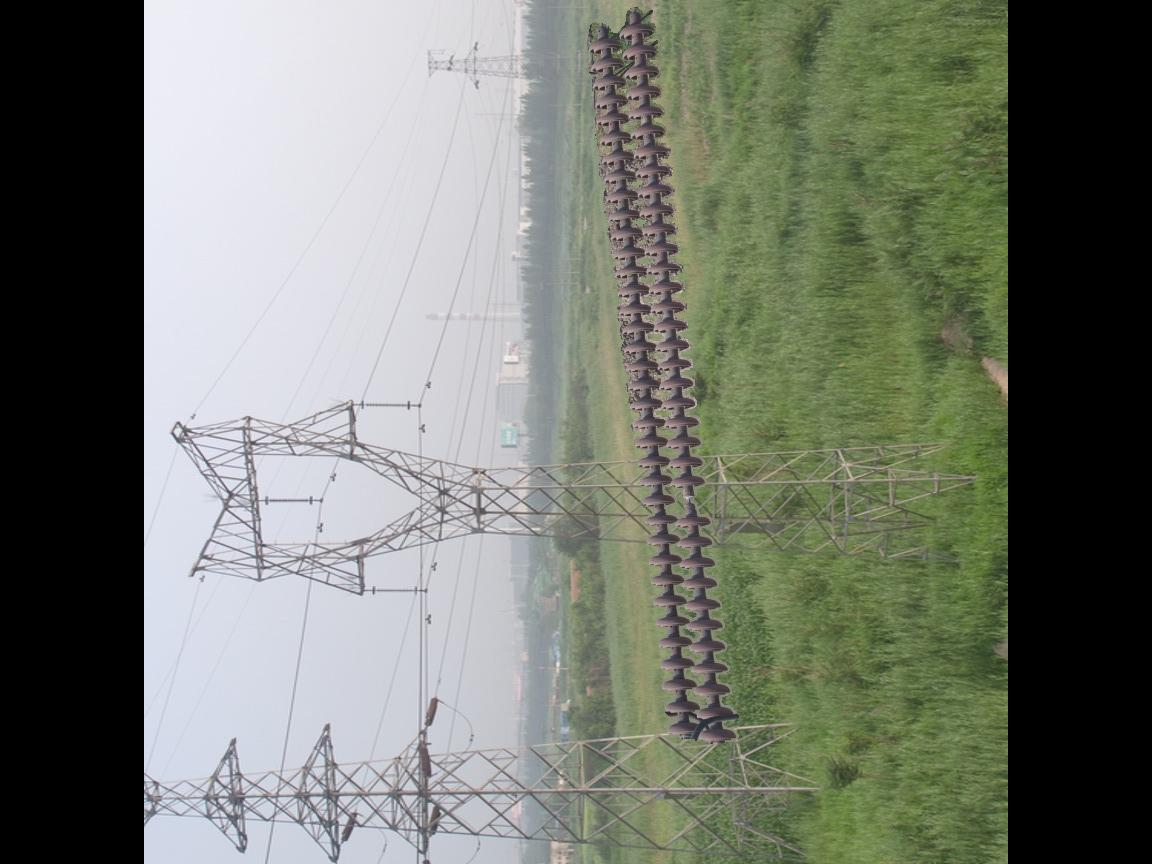insulator: (584, 18, 744, 756)
insulator_stringdrop: (669, 472, 715, 533)
